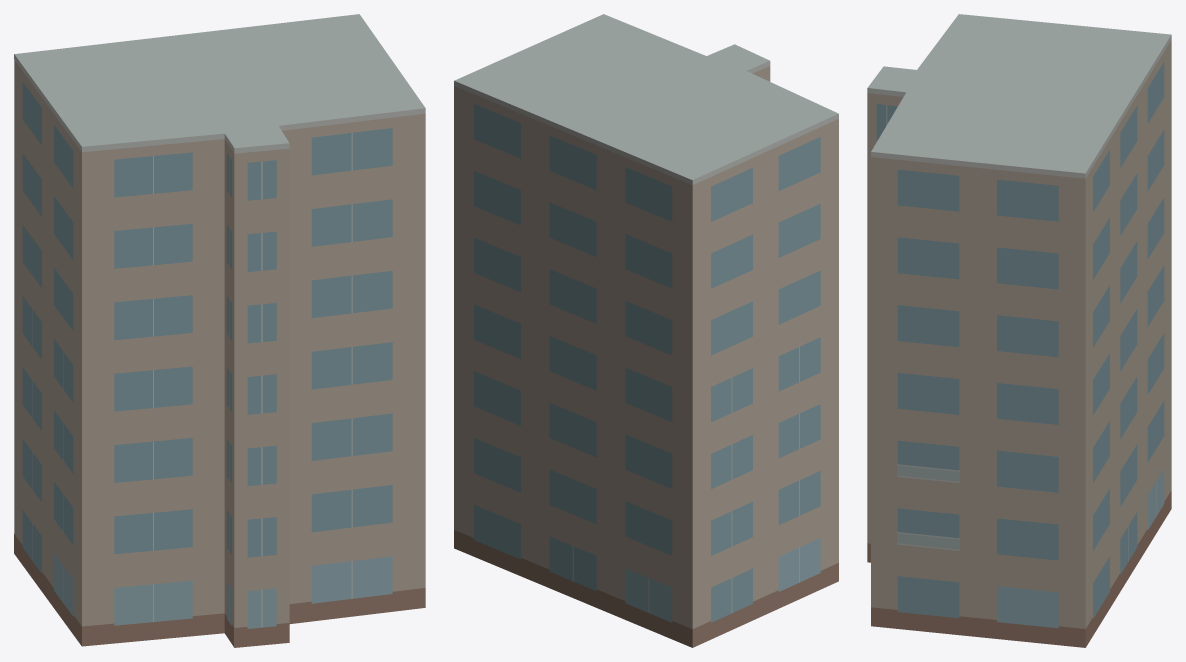
The model's file is survey-upis-33005489.glb.
The picture shows the model from 3 angles, left to right: view 1: azimuth 30°, elevation 25°; view 2: azimuth 150°, elevation 25°; view 3: azimuth 270°, elevation 25°; orthographic projection. The views are drawn at different scales.
Parts seen in each view (by area): view 1: survey-upis-33005489.tmp; view 2: survey-upis-33005489.tmp; view 3: survey-upis-33005489.tmp.
Boxes of the visible parts, x1,y1,x2,y2 form: survey-upis-33005489.tmp: [14, 14, 425, 647]; survey-upis-33005489.tmp: [454, 14, 838, 647]; survey-upis-33005489.tmp: [867, 14, 1171, 647].
Size of the model in its own units: 16.27 by 22.55 by 13.11.
